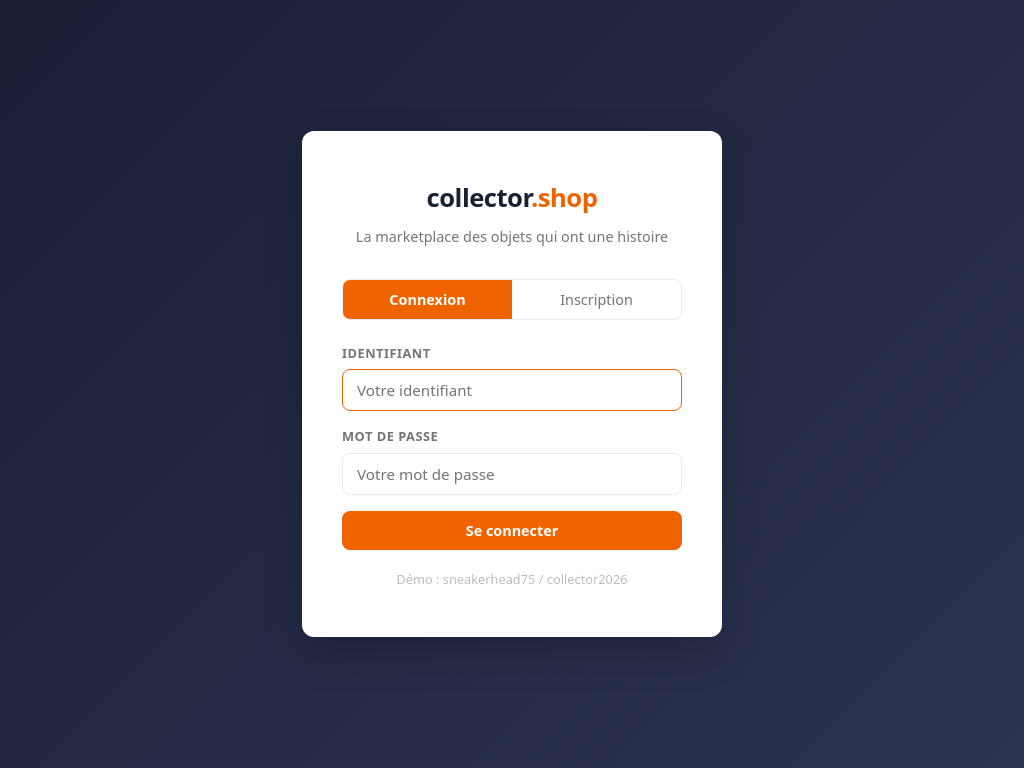
Scenario: LoginPage Component › affiche des erreurs de validation en mode inscription
Click the button "Inscription" at [596, 300], box x1=512 y1=280 x2=681 y2=319
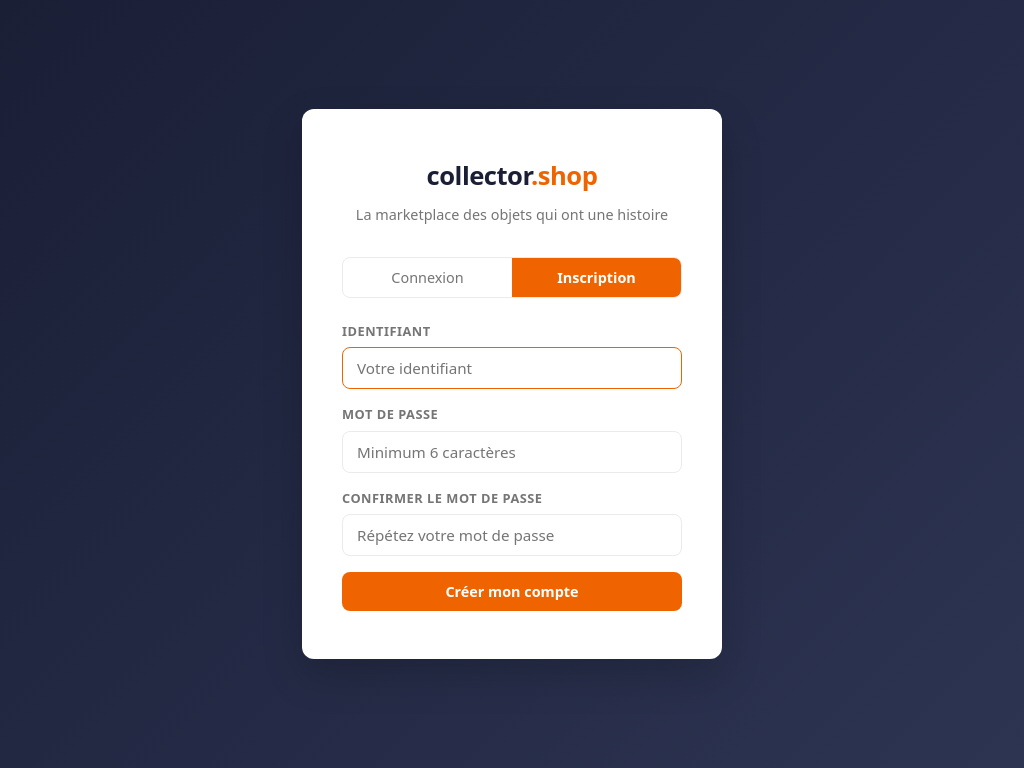
Type "user" into the field with placeholder "Votre identifiant" at [512, 368], box x1=342 y1=347 x2=682 y2=389
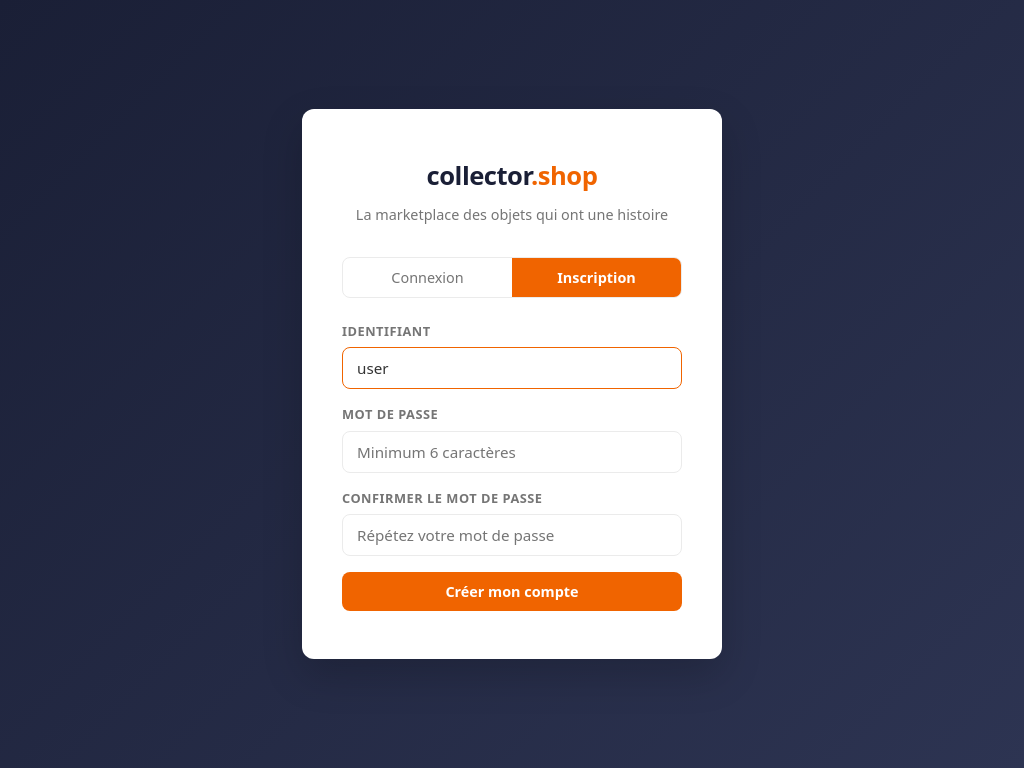
Type "password123" into the password field with placeholder "Minimum 6 caractères" at [512, 452], box x1=342 y1=431 x2=682 y2=473
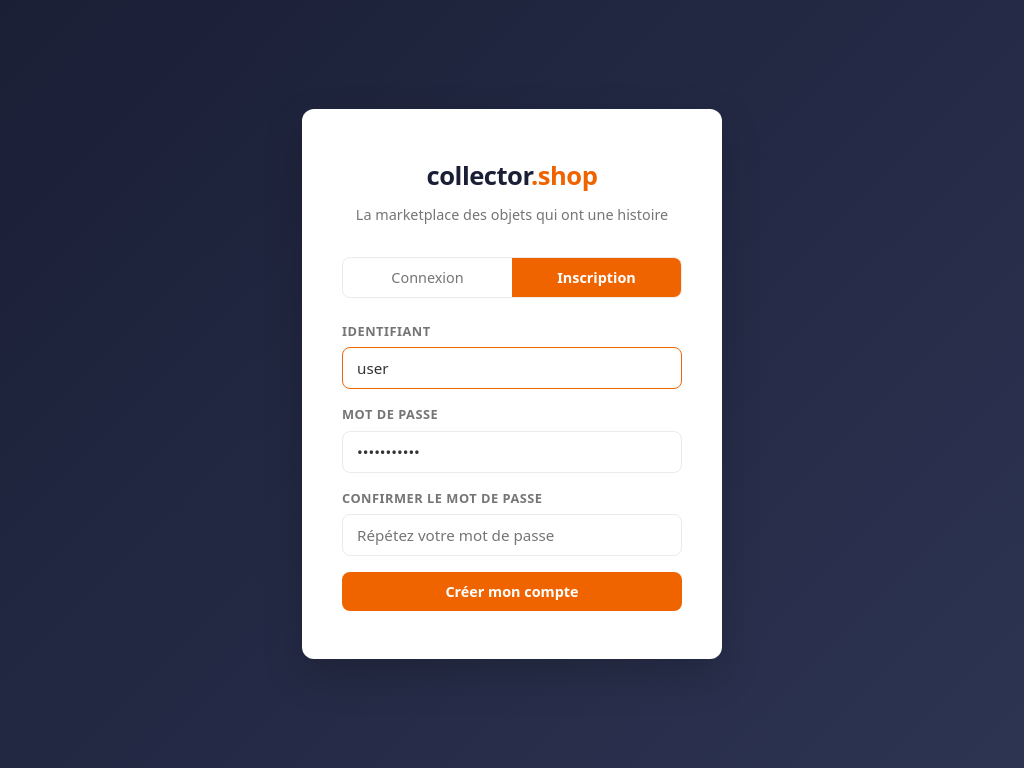
Type "different" into the password field with placeholder "Répétez votre mot de passe" at [512, 535], box x1=342 y1=514 x2=682 y2=556
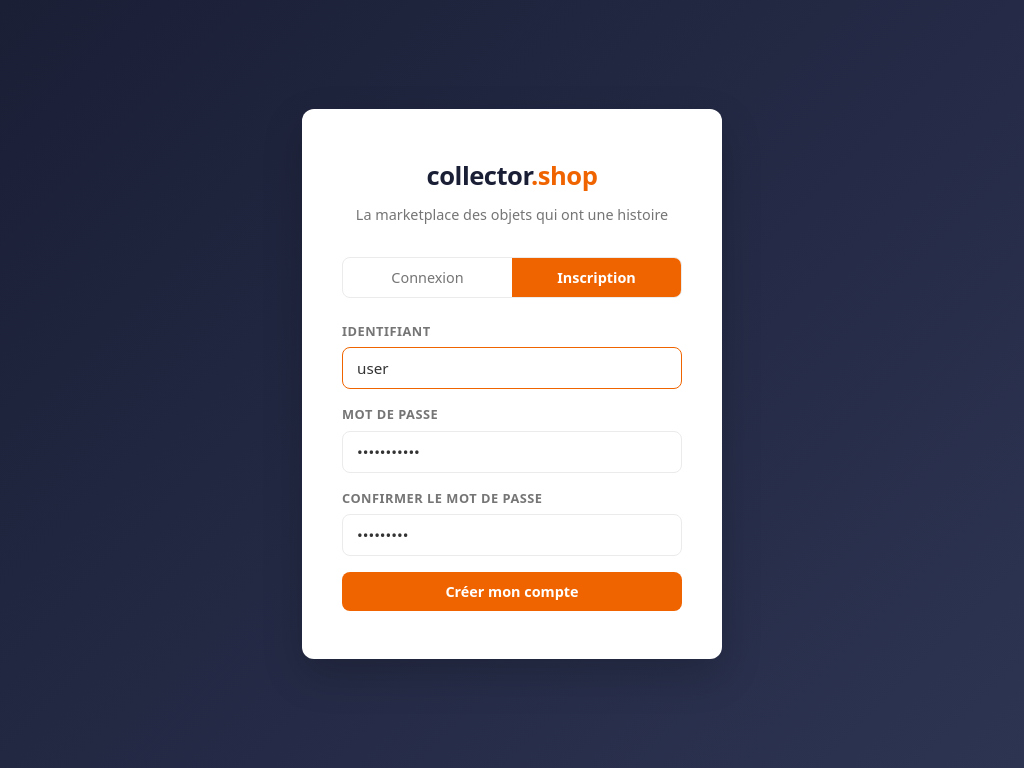
Click the button "Créer mon compte" at [512, 591], box x1=342 y1=572 x2=682 y2=611
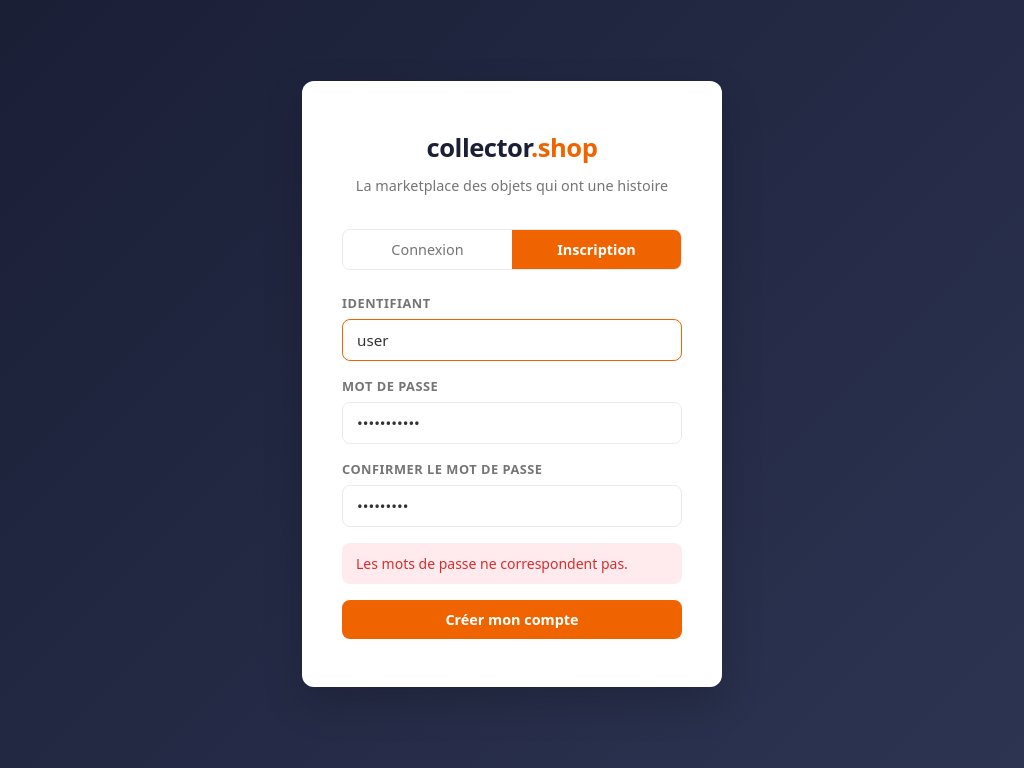
Expected: the text "Les mots de passe ne correspondent pas." is shown, x1=342 y1=543 x2=682 y2=584
